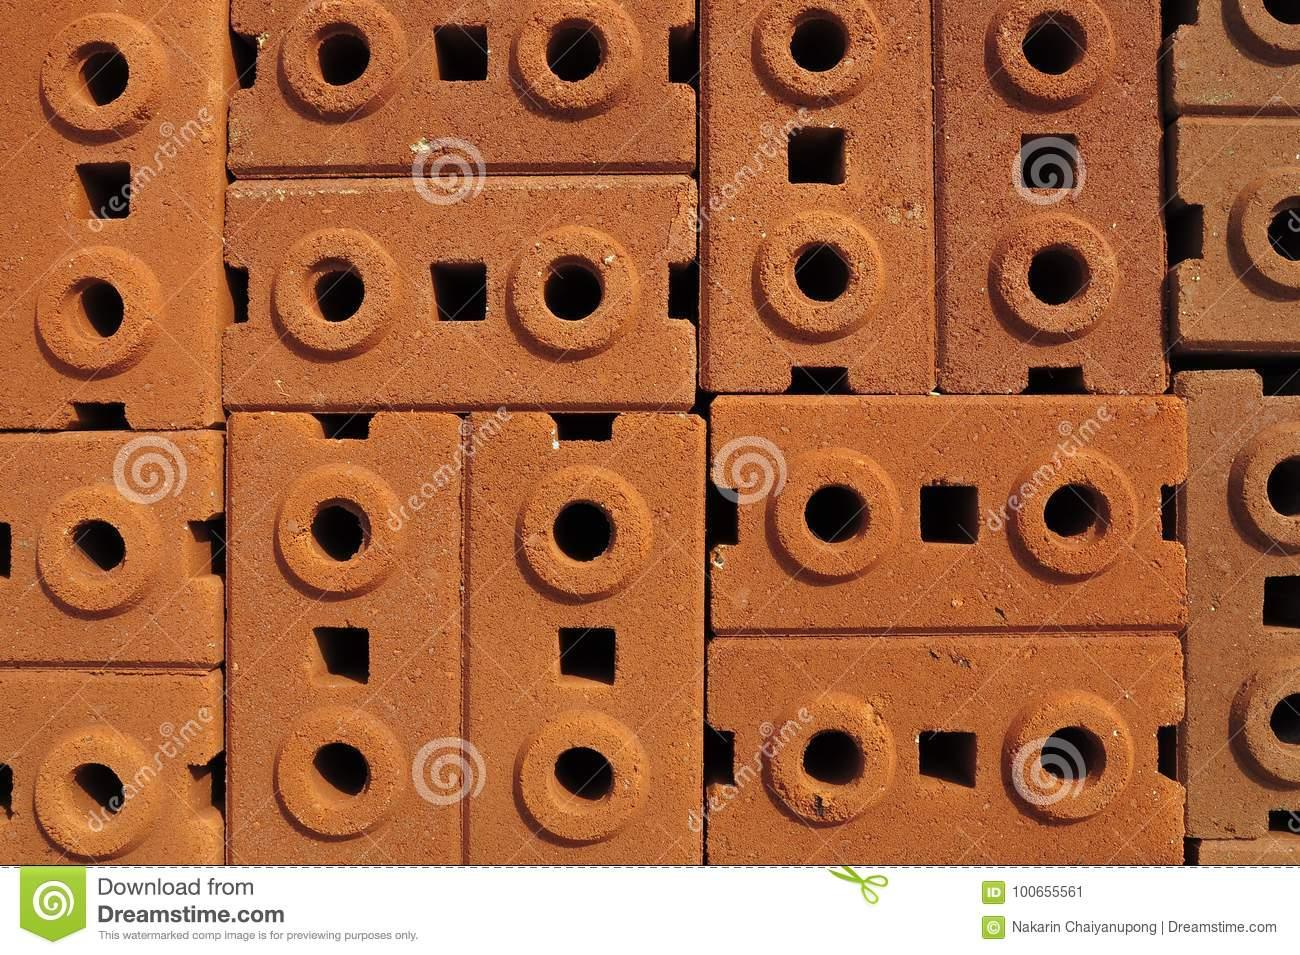brick: (709, 397, 1186, 633), (221, 178, 695, 409), (707, 634, 1184, 863), (227, 413, 464, 868), (469, 411, 707, 865), (0, 0, 227, 428), (934, 0, 1171, 391), (701, 0, 936, 394), (229, 0, 693, 174), (1175, 369, 1300, 838), (0, 430, 224, 673), (2, 672, 224, 865)
